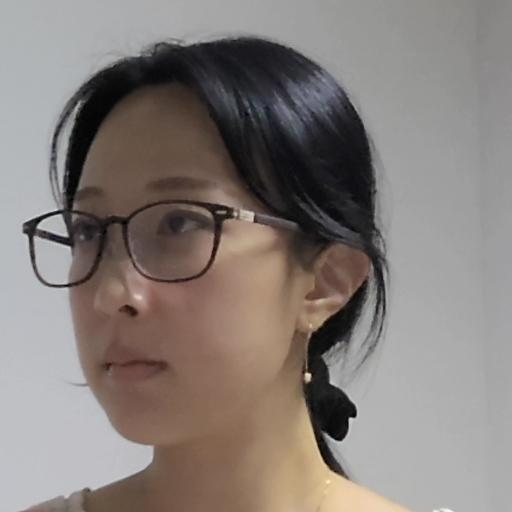no_glasses: (16, 38, 395, 448)
